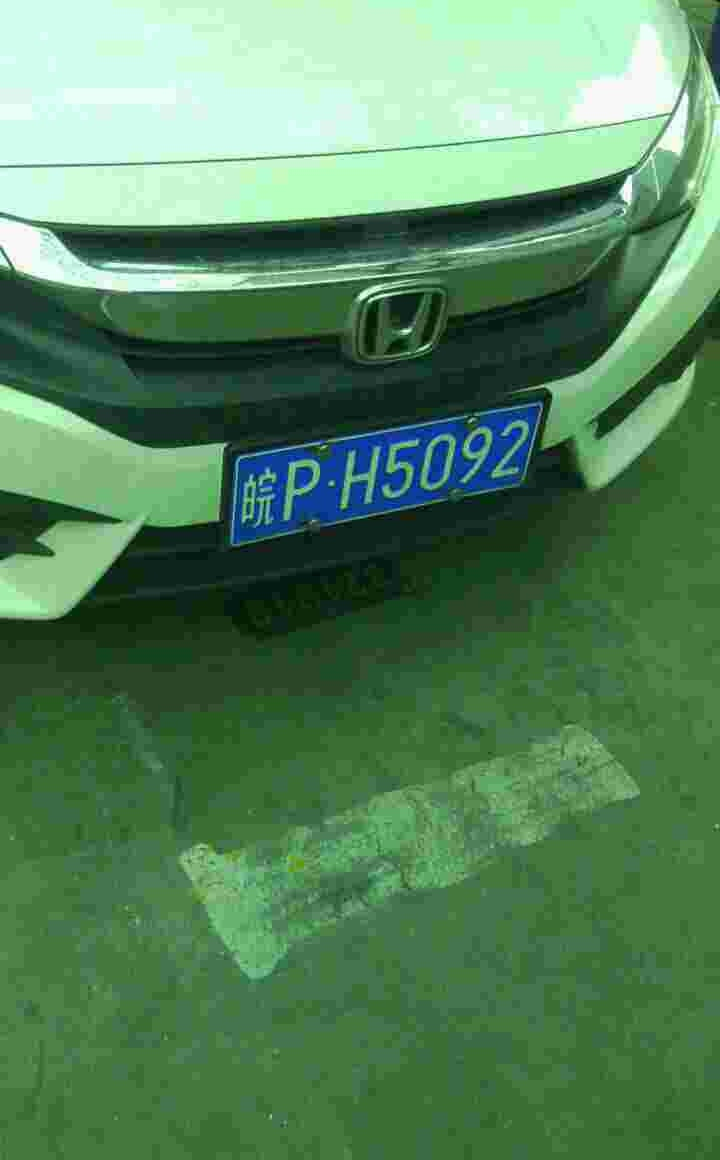car: (228, 434, 549, 496)
